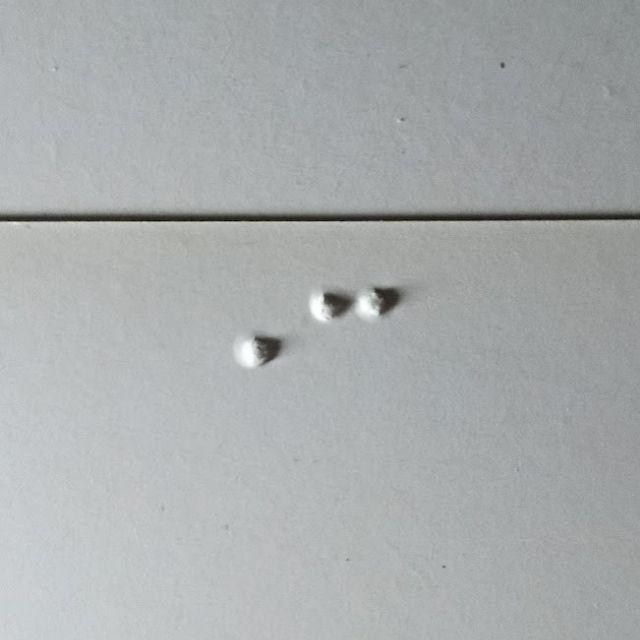dot_5: (196, 289, 276, 421)
karaniwan: (312, 285, 392, 417)
